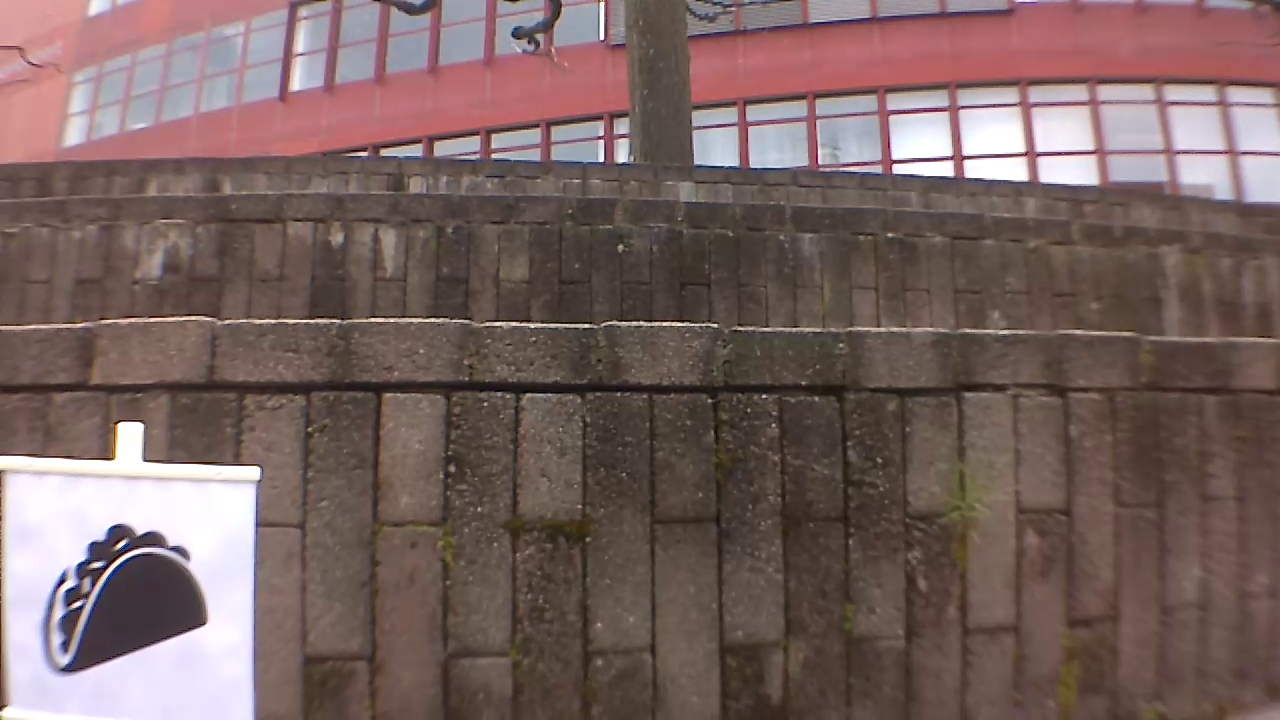taco: (34, 511, 221, 679)
